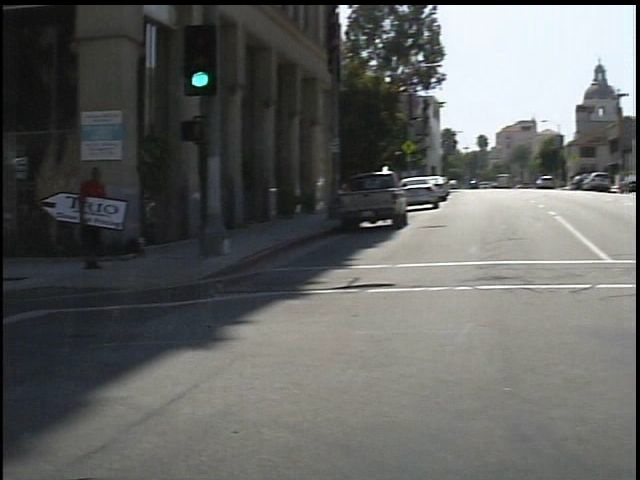person: (66, 158, 117, 279)
